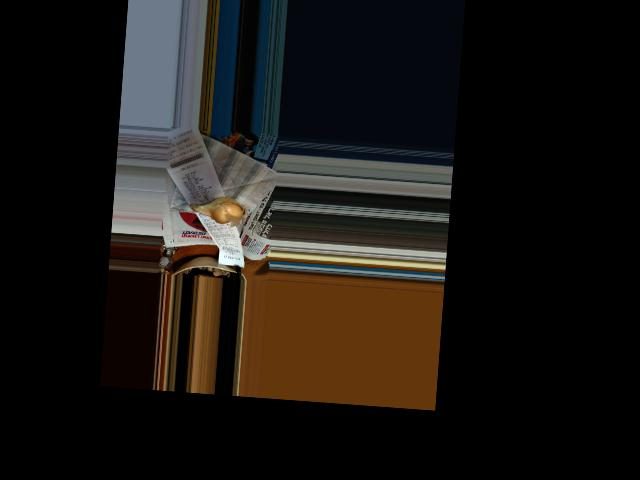onion: (198, 196, 246, 226)
